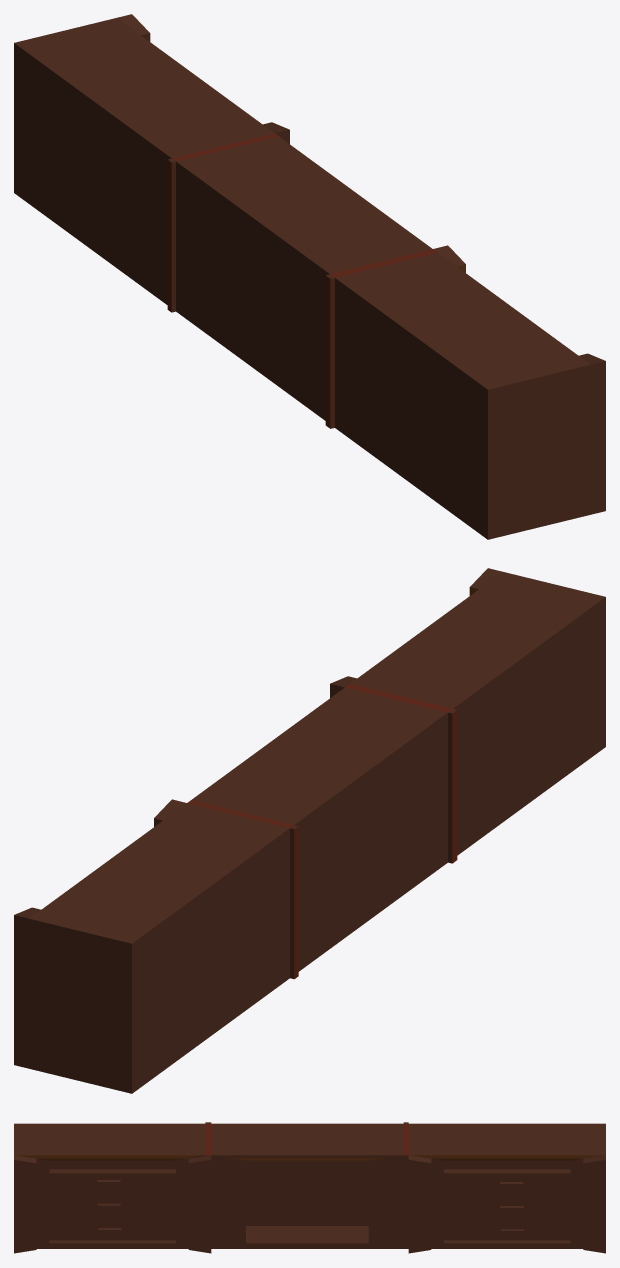
File: cupbaord.fbx
The picture shows the model from 3 angles, top to bottom: view 1: azimuth 30°, elevation 25°; view 2: azimuth 150°, elevation 25°; view 3: azimuth 270°, elevation 25°; orthographic projection. The views are drawn at different scales.
Parts seen in each view (by area): view 1: Cube; view 2: Cube; view 3: Cube.
Part boxes in pixels (x1,y1,x2,y2): Cube: (14,14,605,539); Cube: (14,568,605,1093); Cube: (14,1122,605,1253).
Bounding box in the file's own units: 238 × 279 × 1595.
